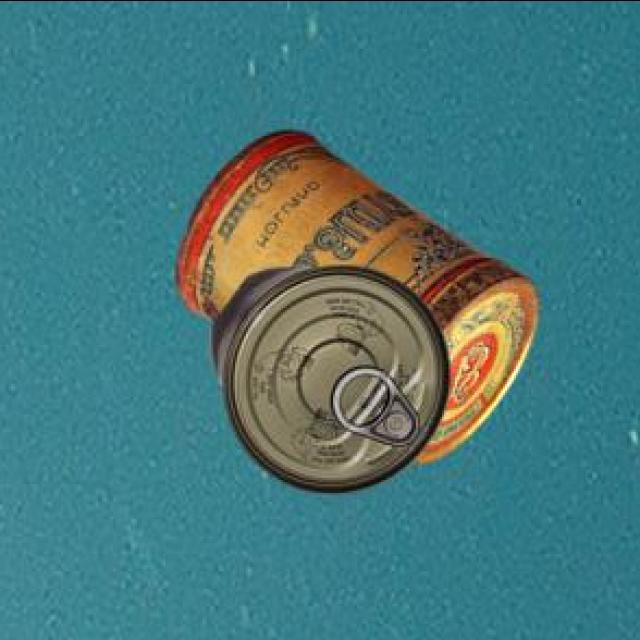logam: (173, 127, 537, 460), (208, 262, 447, 491)
